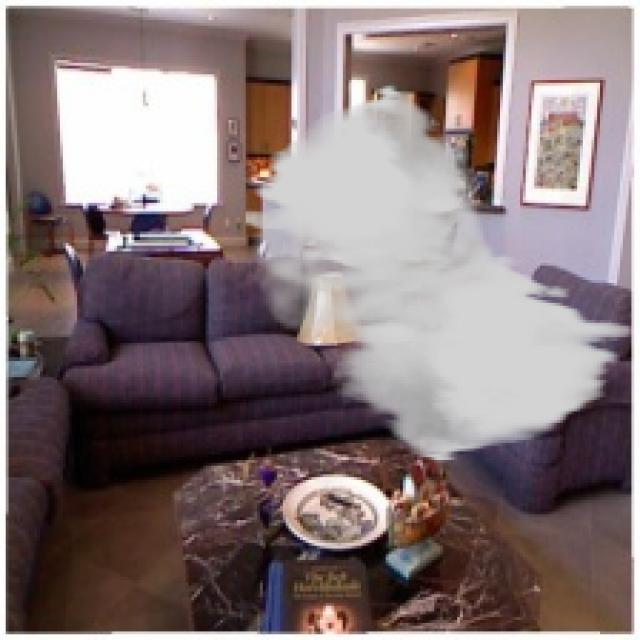smoke: (243, 83, 631, 463)
